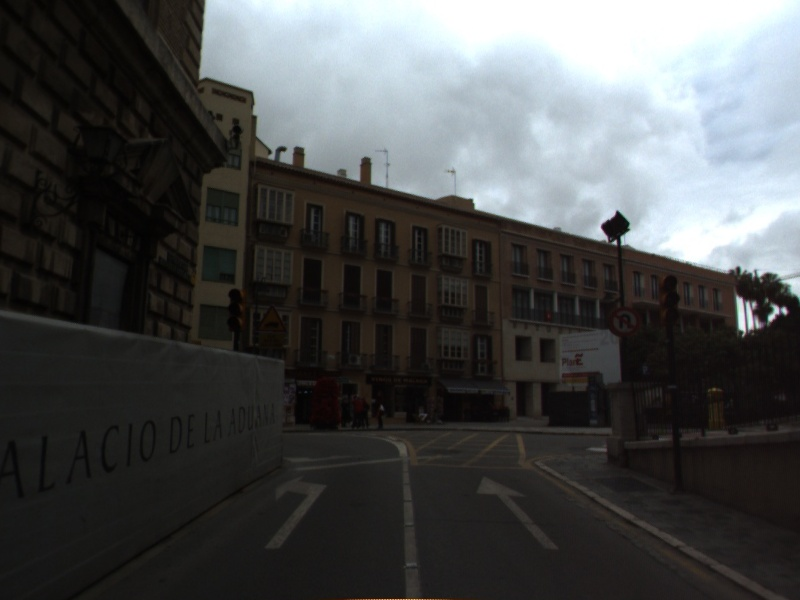LEFT: (262, 473, 329, 551)
STRAIGHT: (473, 473, 562, 552)
